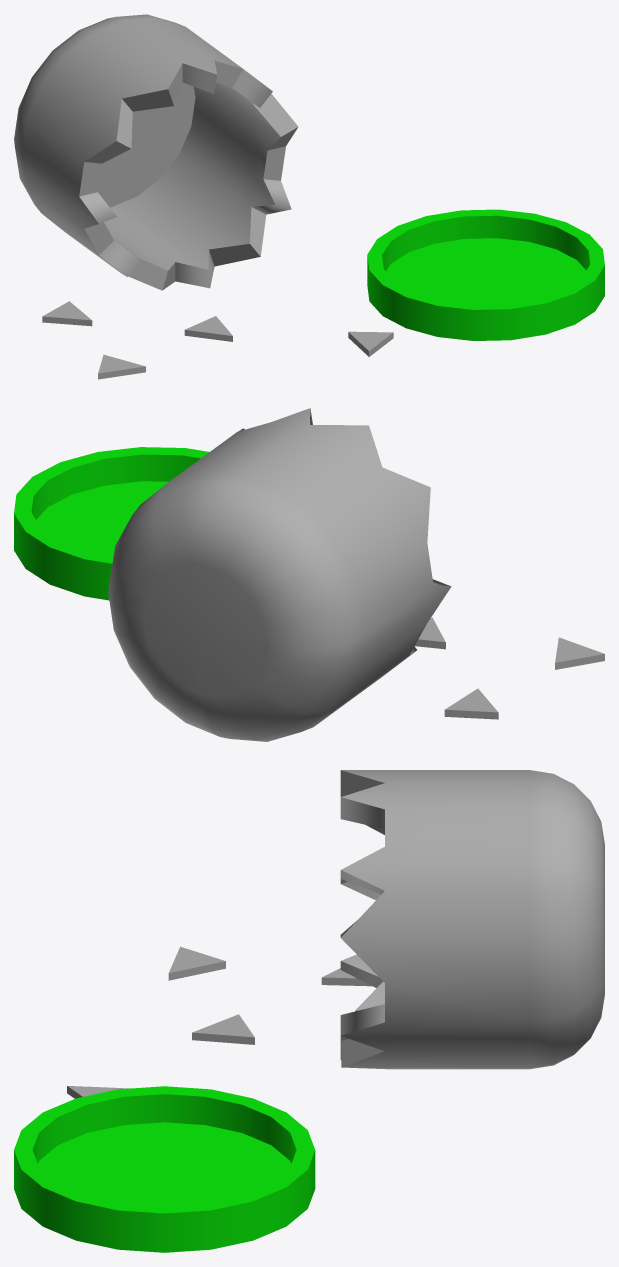
File: SauceJar.fbx
3 views of the same model, one above another, from view 1: azimuth 30°, elevation 25°; view 2: azimuth 150°, elevation 25°; view 3: azimuth 270°, elevation 25° (orthographic). The views are drawn at different scales.
Visible parts, largest first — view 1: pCylinder1, pCylinder2, pCube1, pasted__pCube1, pasted__pasted__pCube1, pasted__pasted__pCube2; view 2: pCylinder1, pCylinder2, pCube1, pasted__pasted__pCube1, pasted__pCube1; view 3: pCylinder1, pCylinder2, pasted__pCube1, pasted__pasted__pCube1.
Part boxes in pixels (x1,y1,x2,y2): pCylinder1: (14,14,298,290); pCylinder2: (367,209,604,340); pCube1: (42,301,92,326); pasted__pCube1: (184,316,232,341); pasted__pasted__pCube1: (98,354,145,379); pasted__pasted__pCube2: (348,331,393,356); pCylinder1: (108,408,451,741); pCylinder2: (14,447,209,600); pCube1: (444,688,498,719); pasted__pasted__pCube1: (555,637,604,669); pasted__pCube1: (415,617,445,649); pCylinder1: (340,770,604,1069); pCylinder2: (14,1086,315,1252); pasted__pCube1: (192,1014,254,1044); pasted__pasted__pCube1: (168,946,225,980).
Bounding box in the file's own units: 4.69 × 2 × 3.92.
